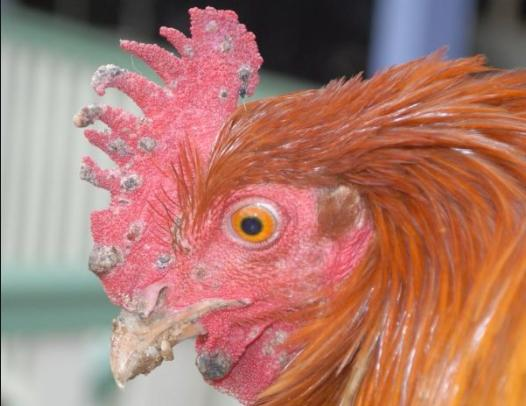AbNormal: (84, 7, 263, 301)
